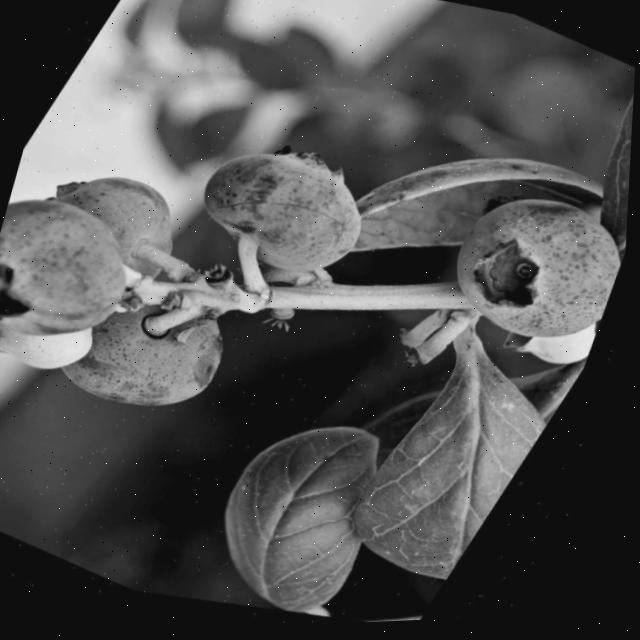RipeBlueBerry: (167, 107, 410, 319), (418, 164, 632, 390), (49, 258, 271, 459), (0, 167, 181, 382)
